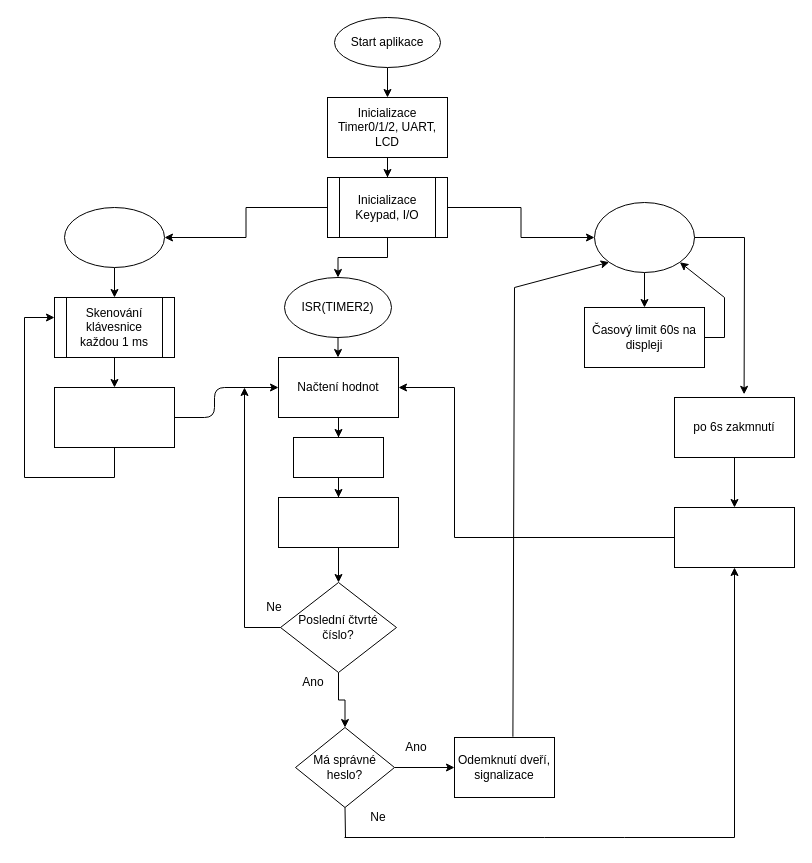
Image size: 812x863. Some labels were removed from this diagram. The shapes that lost their labels are listed below. From the top down, each one's box as (x1, y1, x2, y2) in pixels, then its label:
(64, 206, 164, 268): ISR(TIMER0)
(594, 202, 694, 272): ISR(TIMER1) Přerušení 1s
(54, 386, 174, 448): Buď číslo tlačítka nebo číslo 11 (Vše rozpojeno)
(292, 436, 384, 478): 1 ze 4 čísel Hesla
(278, 496, 398, 548): Vypsání na LCD displej, poslání na UART, pípnutí
(674, 506, 794, 568): Smazání displeje, vymazání proměnných
